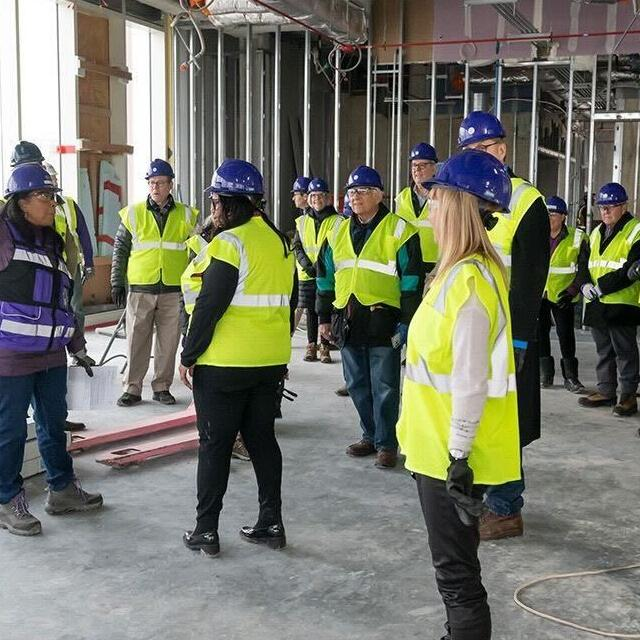Gloves: (445, 452, 485, 526), (72, 346, 96, 378), (511, 337, 530, 374), (555, 290, 575, 311), (110, 285, 127, 308), (395, 322, 409, 349), (625, 257, 640, 281), (581, 283, 599, 302), (590, 282, 604, 301), (83, 265, 96, 282), (306, 266, 317, 278), (305, 267, 315, 277)
Hardhat: (421, 148, 512, 215), (202, 157, 266, 195), (2, 163, 63, 198), (455, 109, 508, 148), (342, 164, 386, 192), (9, 140, 44, 168), (594, 182, 629, 205), (407, 142, 441, 164), (143, 158, 176, 180), (544, 194, 571, 216), (307, 176, 330, 194), (289, 176, 311, 193), (42, 160, 58, 175), (581, 191, 597, 199), (343, 192, 351, 208)
NO-Mask: (27, 207, 55, 225), (350, 200, 375, 214), (429, 218, 438, 244), (150, 190, 169, 202), (413, 171, 432, 183), (602, 213, 620, 225), (212, 209, 223, 227), (312, 200, 326, 209), (550, 220, 562, 230), (295, 199, 304, 208)
Person: (395, 143, 522, 640), (178, 156, 299, 560), (456, 109, 551, 539), (0, 161, 101, 534), (316, 163, 425, 471), (108, 156, 198, 406), (576, 181, 640, 417), (0, 136, 84, 277), (539, 192, 589, 394), (293, 176, 346, 366), (43, 159, 96, 335), (390, 141, 441, 286), (288, 175, 322, 347), (577, 190, 601, 229)
Safety Vest: (394, 250, 519, 482), (181, 215, 296, 367), (0, 215, 77, 351), (325, 210, 419, 307), (480, 172, 545, 297), (117, 198, 199, 286), (585, 216, 640, 307), (0, 197, 64, 261), (542, 226, 590, 303), (392, 186, 439, 263), (294, 212, 346, 280), (58, 194, 85, 279), (293, 213, 305, 266), (185, 232, 209, 254), (576, 204, 594, 230)
